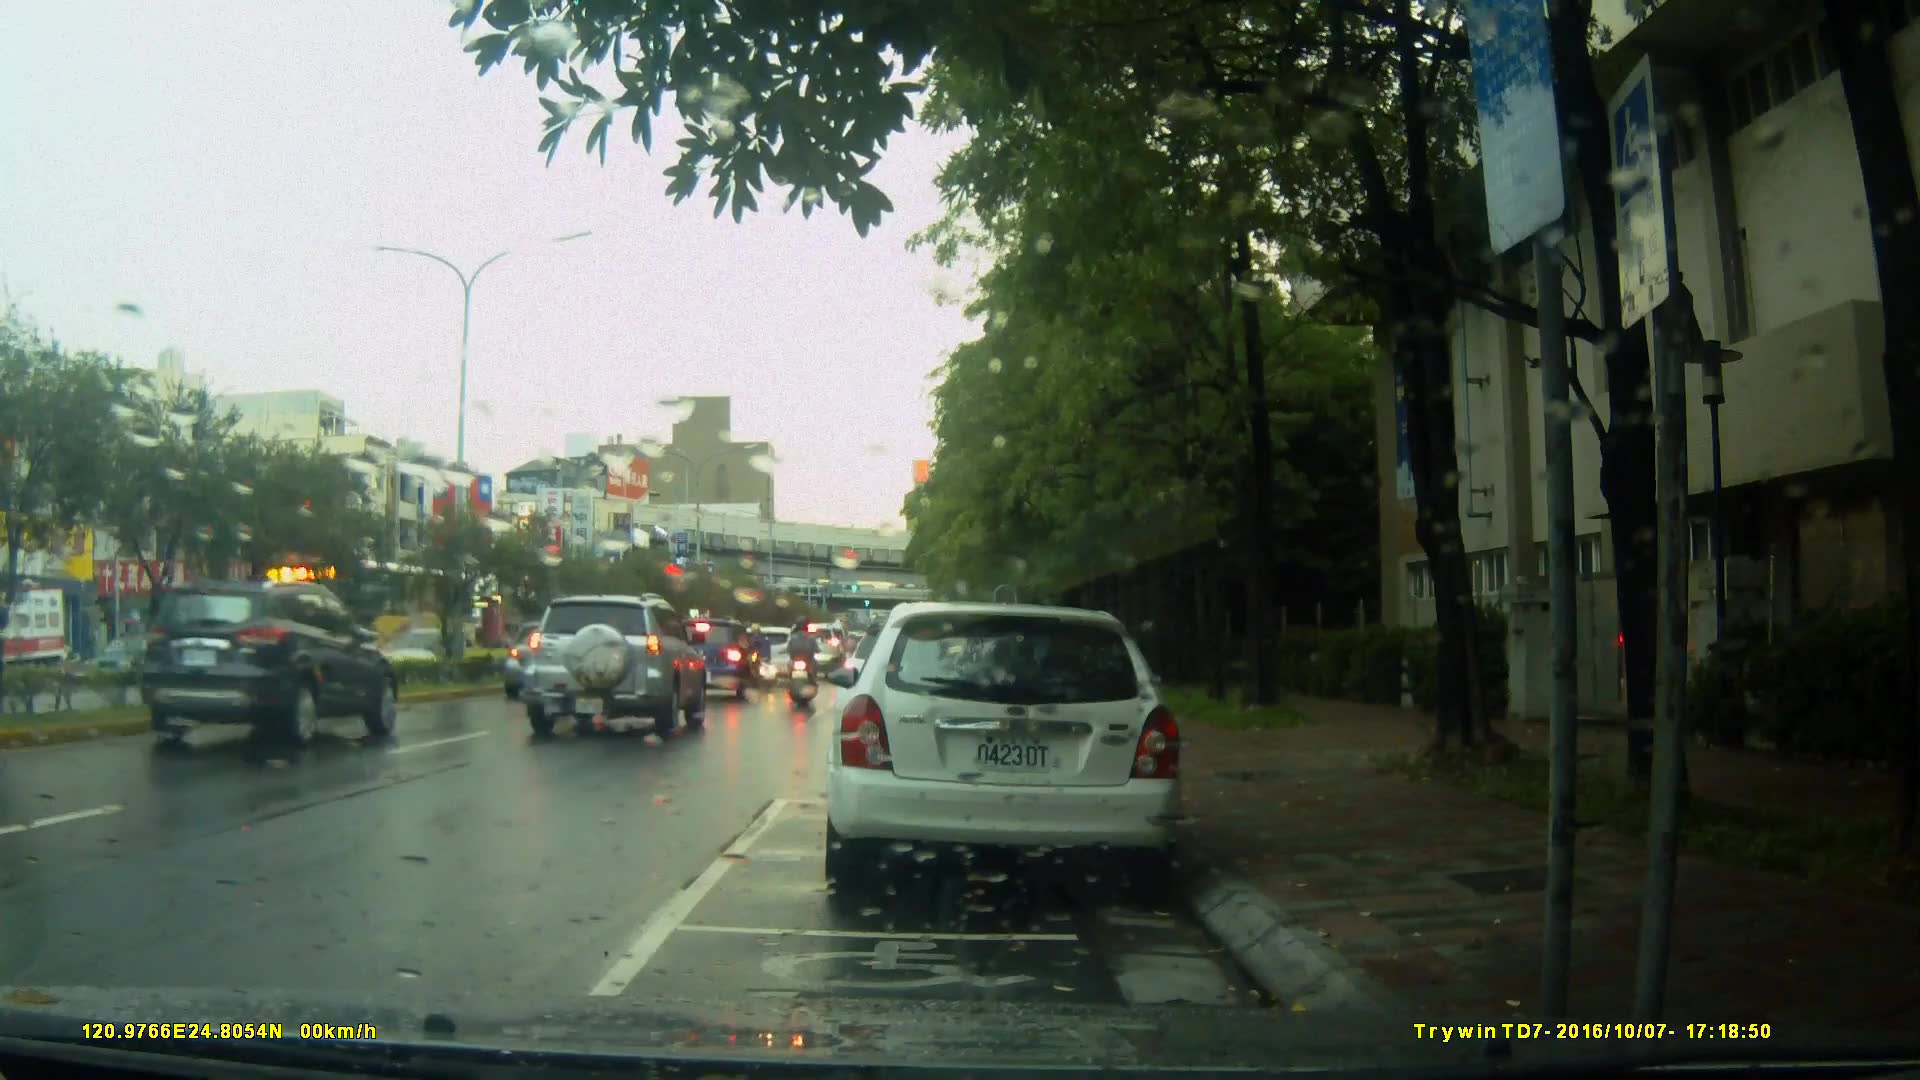rider: (787, 612, 827, 715), (740, 619, 776, 689)
vehicle: (820, 602, 1188, 898), (138, 578, 404, 751), (527, 593, 713, 735), (657, 613, 767, 701)
